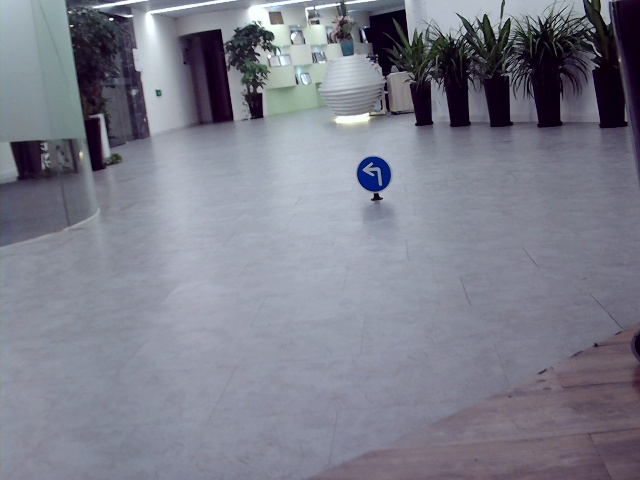turn_left: (362, 161, 382, 186)
